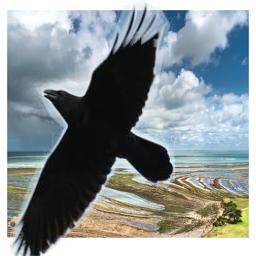Crow: (10, 0, 175, 256)
